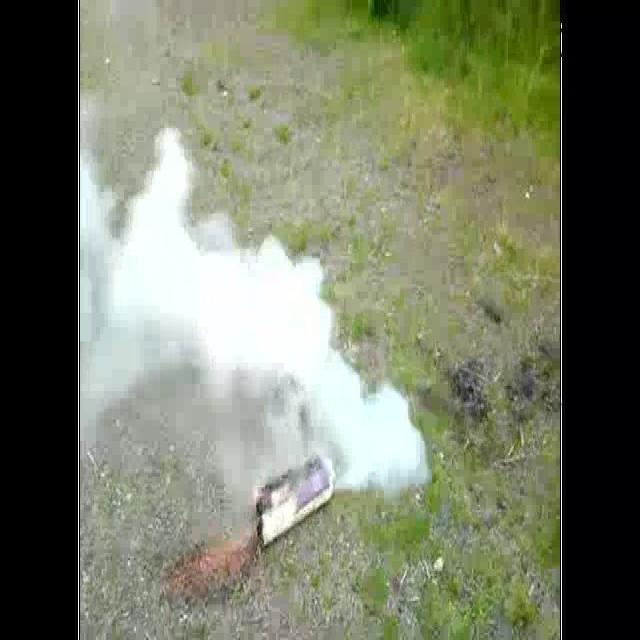Fire: (170, 522, 261, 600)
Smoke: (79, 106, 428, 490)
